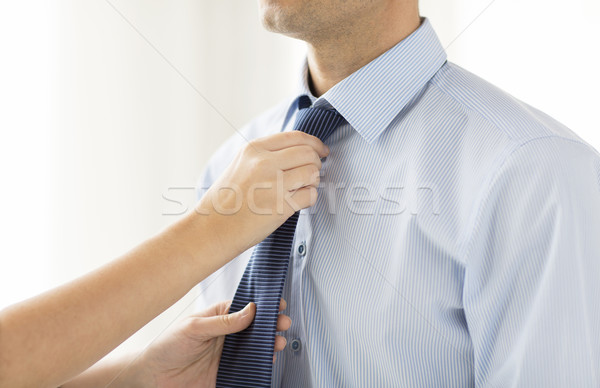tie: (205, 94, 353, 382)
